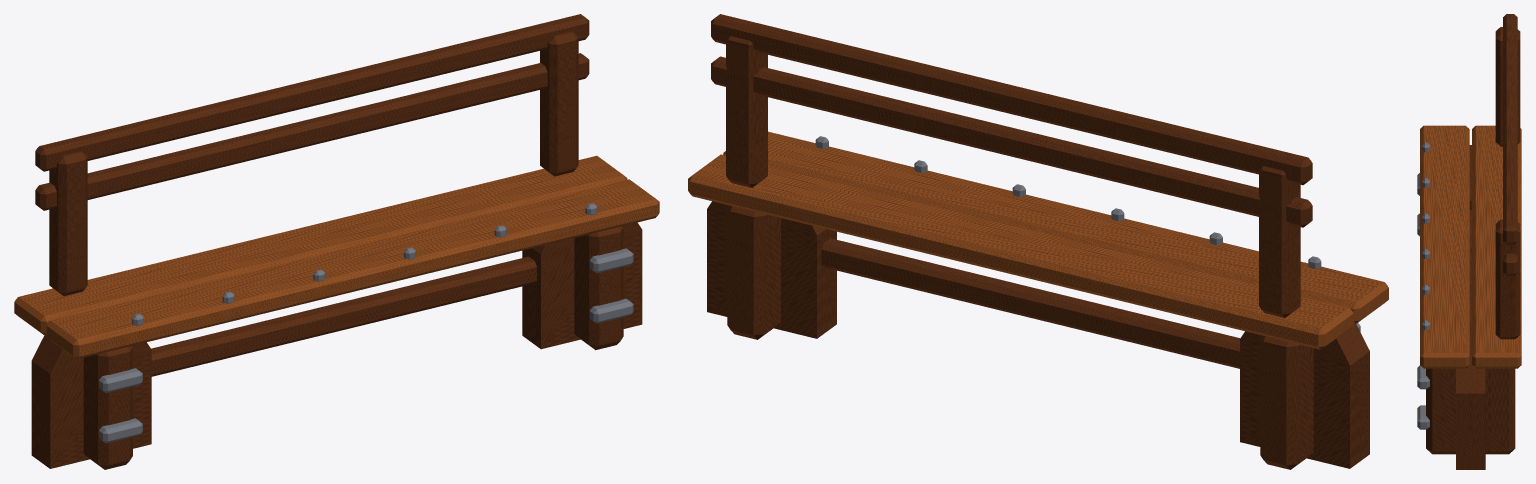
Rendered from fantasy-mmo-city-and-townsfolk-tavern-bench-7a330927__32754.glb.
The picture shows the model from 3 angles, left to right: view 1: azimuth 30°, elevation 25°; view 2: azimuth 150°, elevation 25°; view 3: azimuth 270°, elevation 25°; orthographic projection. The views are drawn at different scales.
Visible parts, largest first — view 1: tavern-bench; view 2: tavern-bench; view 3: tavern-bench.
Boxes of the visible parts, left/top/right/bottom form: tavern-bench: left=14, top=14, right=659, bottom=469; tavern-bench: left=688, top=14, right=1388, bottom=469; tavern-bench: left=1417, top=14, right=1521, bottom=469.
Size of the model in its own units: 2.22 by 1.04 by 0.4201.
Materials: 3 (2 with a texture image).
